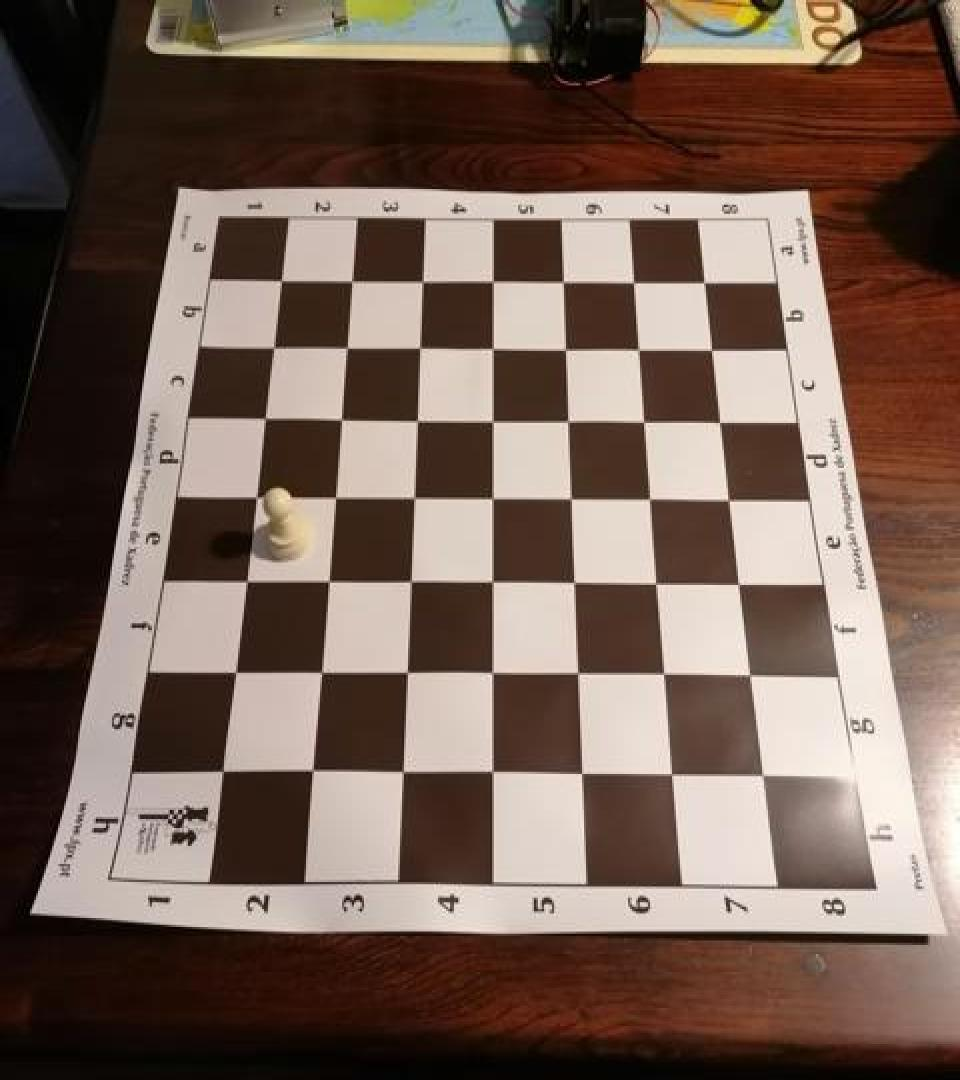xcorner: (474, 653, 506, 690), (387, 653, 419, 690), (300, 652, 332, 689), (689, 263, 721, 299), (618, 263, 650, 299), (547, 262, 579, 298), (476, 262, 508, 298), (406, 262, 438, 298), (335, 262, 367, 298), (264, 261, 296, 297), (697, 330, 729, 366), (623, 330, 655, 366), (329, 328, 361, 364), (256, 328, 288, 364), (706, 402, 738, 438), (629, 400, 661, 436), (552, 400, 584, 436), (475, 400, 507, 436), (399, 400, 431, 436), (323, 400, 355, 436), (247, 398, 279, 434), (715, 479, 747, 515), (635, 478, 667, 514), (555, 478, 587, 514), (475, 477, 507, 513), (395, 477, 427, 513), (316, 476, 348, 512), (237, 476, 269, 512), (725, 564, 757, 600), (641, 564, 673, 600), (558, 562, 590, 598), (475, 562, 507, 598), (391, 562, 423, 598), (308, 560, 340, 596), (226, 560, 258, 596), (736, 656, 768, 692), (648, 656, 680, 692), (561, 655, 593, 691), (214, 652, 246, 688), (748, 757, 780, 793), (656, 757, 688, 793), (565, 756, 597, 792), (474, 755, 506, 791), (382, 754, 414, 790), (291, 752, 323, 788), (201, 752, 233, 788), (549, 329, 581, 364), (476, 329, 508, 364), (402, 329, 434, 364)
